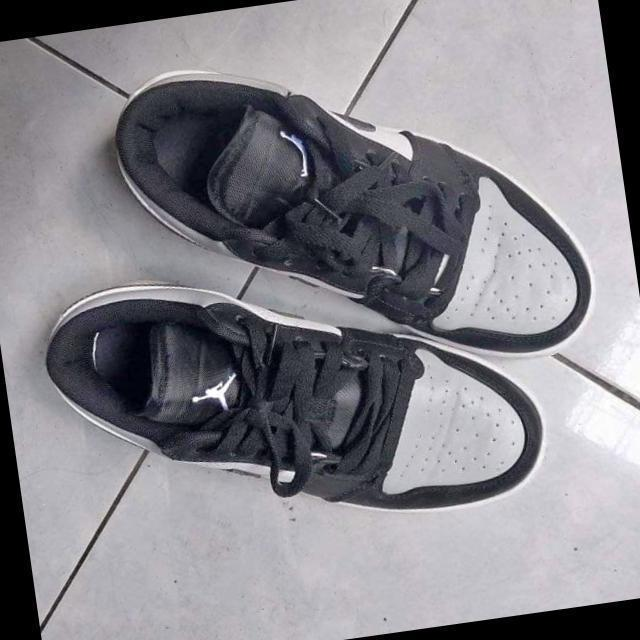nike fake jordan 1: (101, 14, 604, 408), (34, 228, 556, 566)
